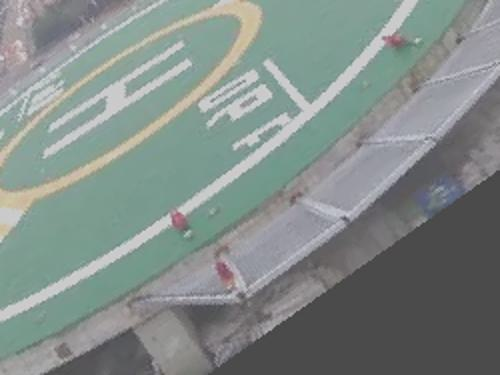Apron: (5, 5, 283, 192)
